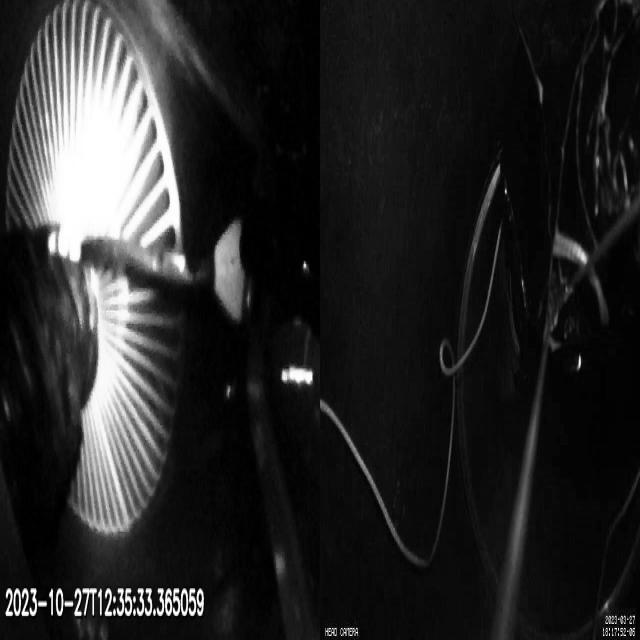head: (214, 220, 274, 324)
white-dots: (47, 225, 83, 263)
